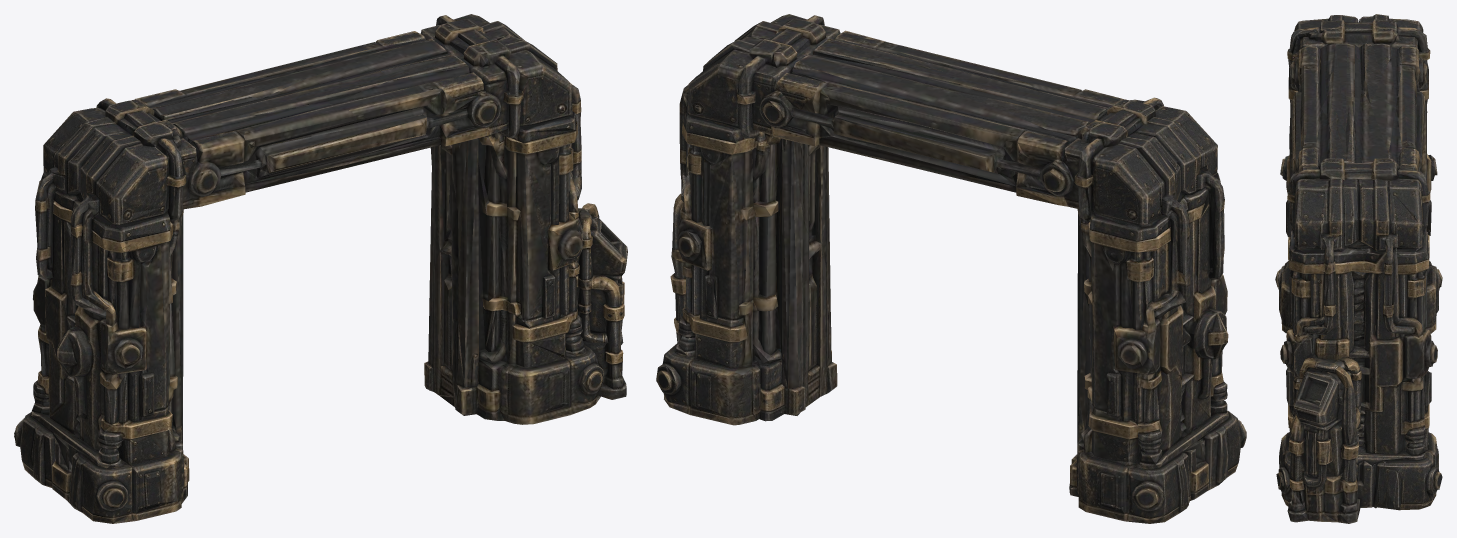
3 views of the same model, side by side, from view 1: azimuth 30°, elevation 25°; view 2: azimuth 150°, elevation 25°; view 3: azimuth 270°, elevation 25° (orthographic). The views are drawn at different scales.
Parts seen in each view (by area): view 1: Mesh_0; view 2: Mesh_0; view 3: Mesh_0.
Part boxes in pixels (bbox=[...]): Mesh_0: bbox=[14, 14, 627, 523]; Mesh_0: bbox=[656, 14, 1246, 523]; Mesh_0: bbox=[1275, 14, 1442, 523].
Bounding box in the file's own units: 1.9 × 1.17 × 0.5729.
Materials: 1 (1 with a texture image).
